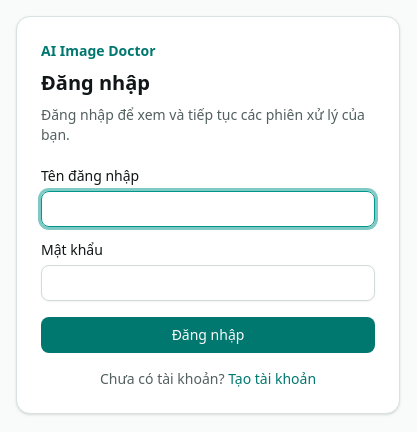
Test case: login form › disables the submit button while the request is pending
Step 1. Type "alice" into the field labelled "Tên đăng nhập" → coordinates (208, 209), box [41,191,375,227]
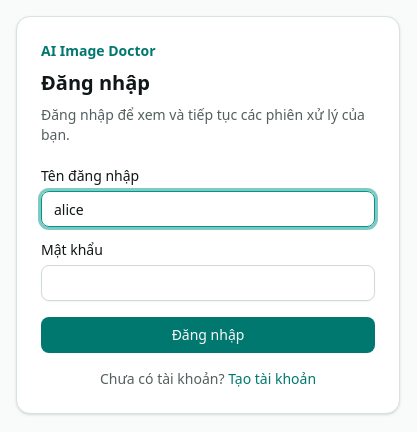
Step 2. Type "password123" into the password field labelled "Mật khẩu" → coordinates (208, 283), box [41,265,375,301]
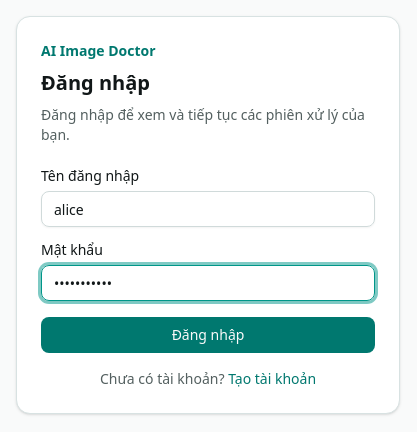
Step 3. Click the button "Đăng nhập" → coordinates (208, 335), box [41,317,375,353]
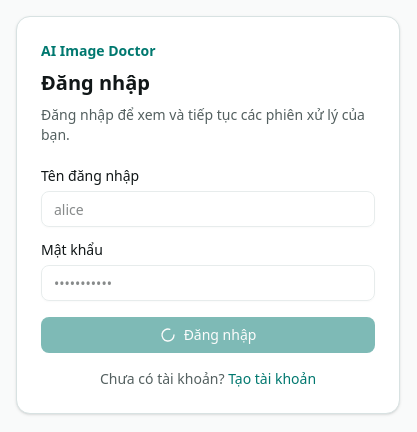
Expected: the button "Đăng nhập" is disabled, [41,317,375,353]
